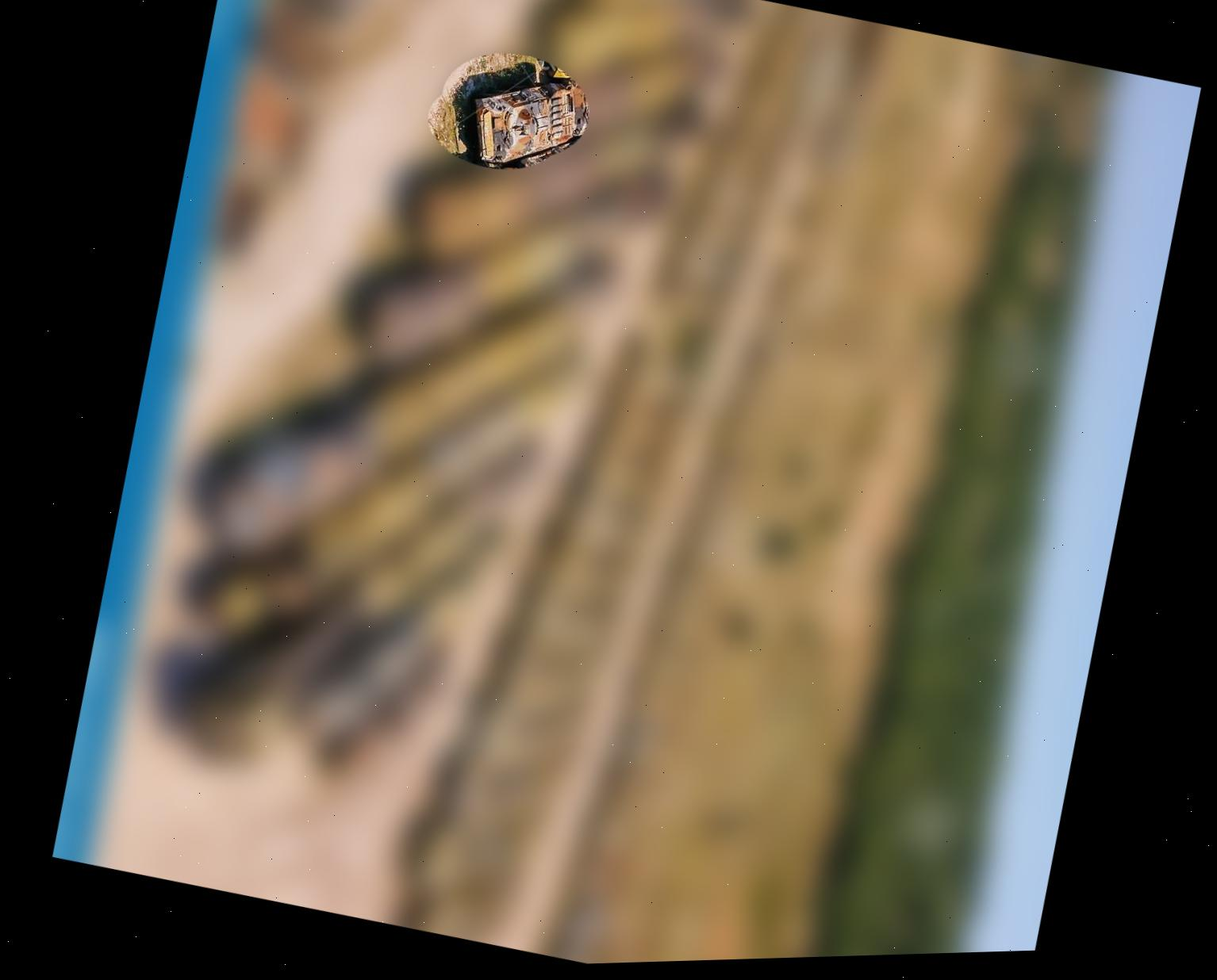armored_car: (414, 32, 602, 188)
